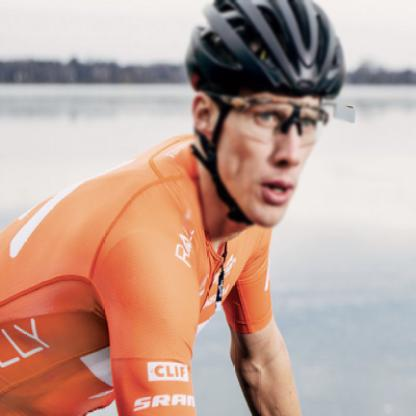Helmet: (181, 1, 378, 231)
